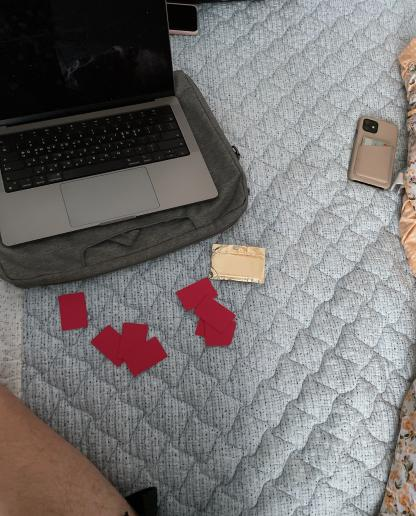ThreeHwatoo: (92, 310, 170, 377)
